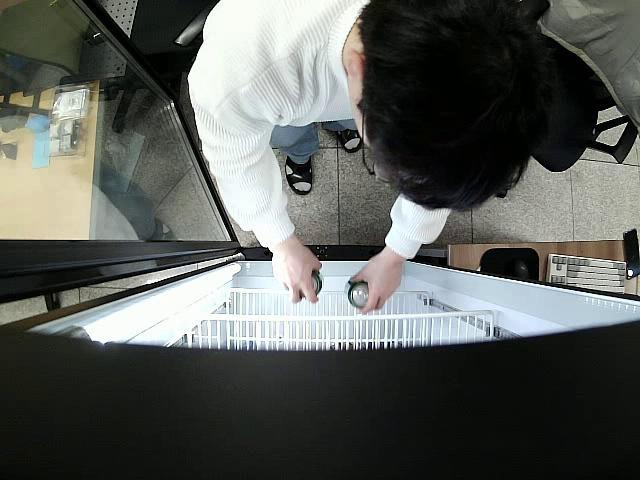12_chilsungCider: (344, 280, 369, 308), (310, 270, 324, 296)
